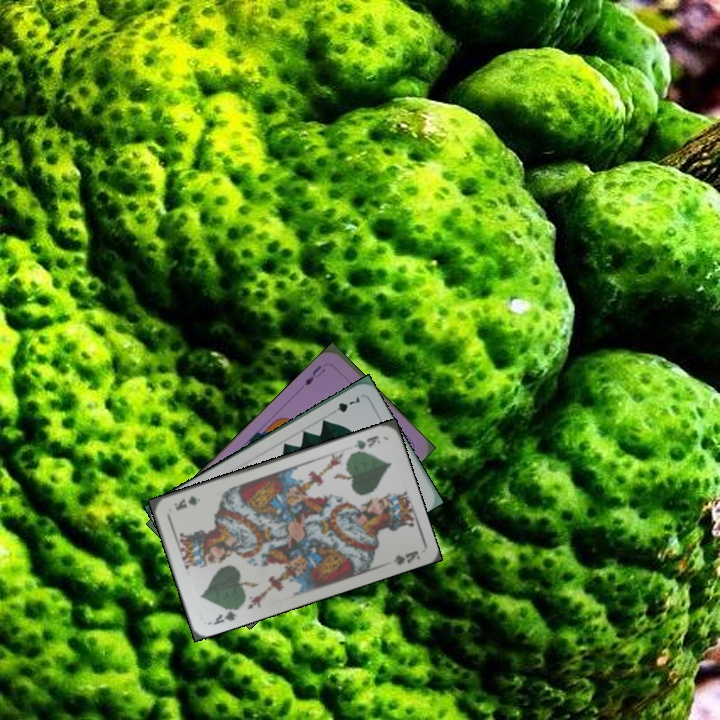EU: (300, 361, 328, 388)
G7: (326, 392, 362, 418)
GK: (347, 431, 383, 457), (209, 602, 242, 627)
